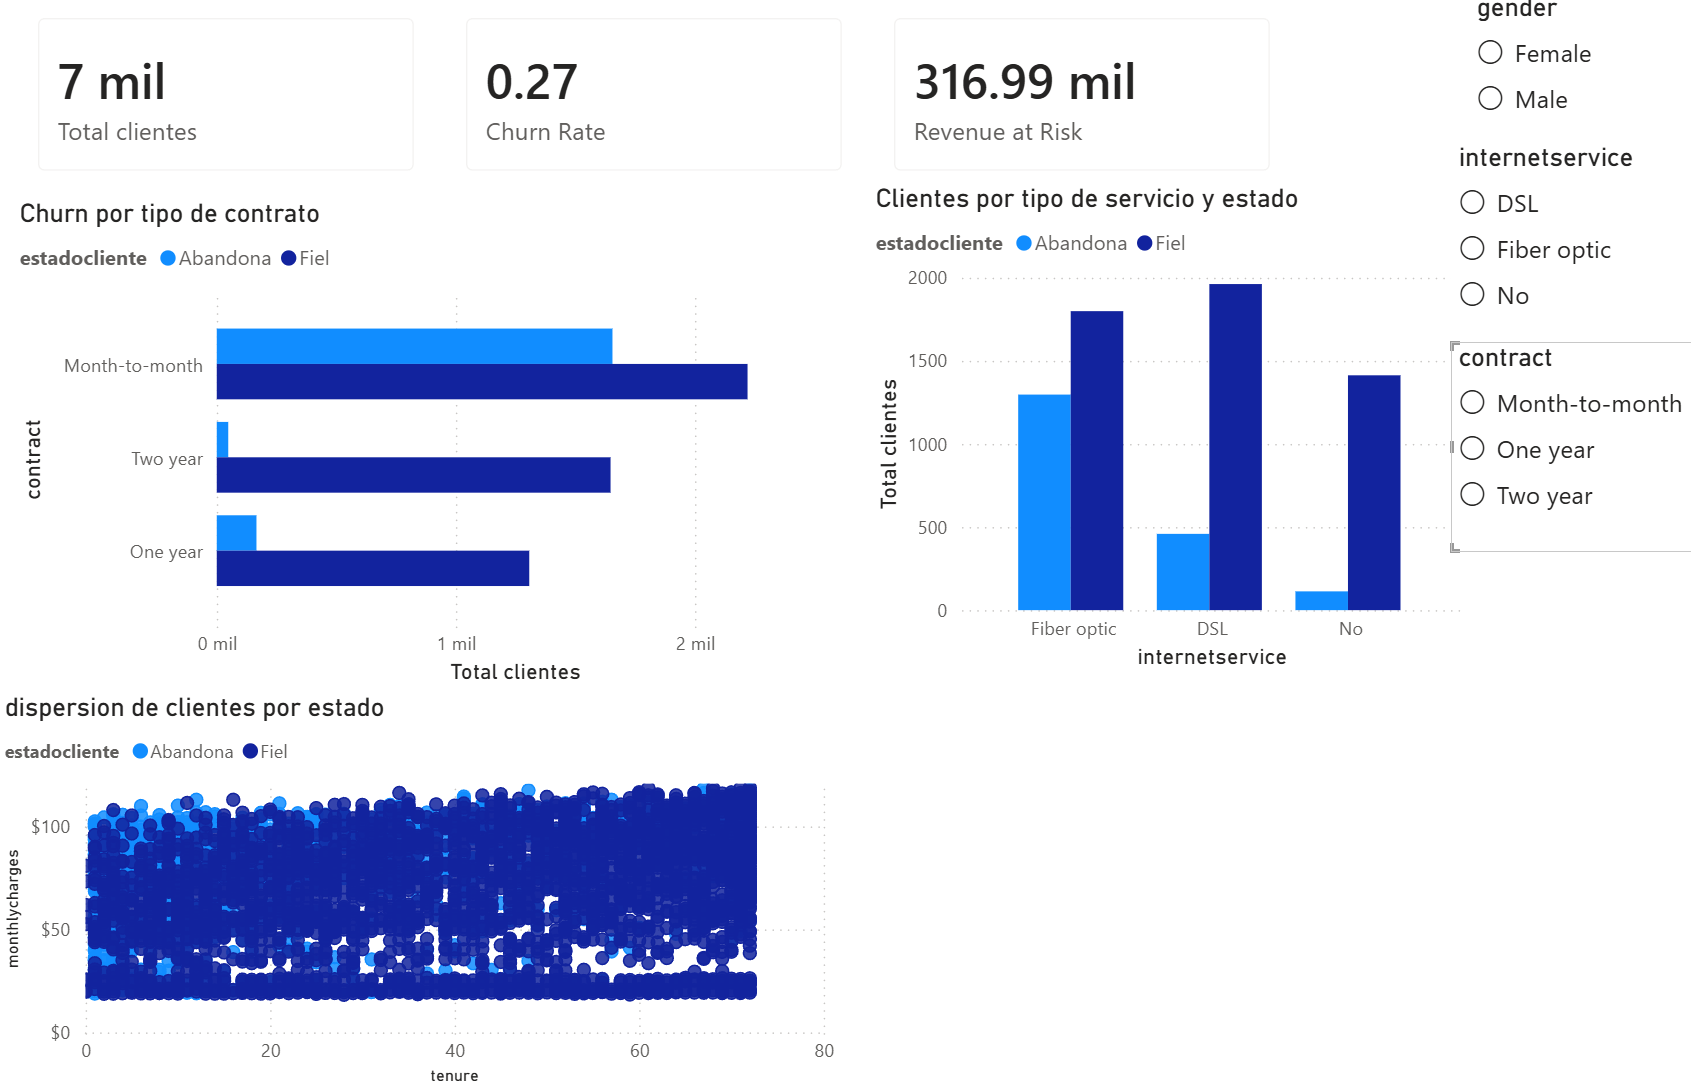

What the dashboard file says about the page in this screenshot:
{"tool":"powerbi","page":{"name":"Página 1","canvas":[1280,720],"ordinal":0},"visuals":[{"type":"cardVisual","fields":{"Data":["public v_reporte_churn_bi.Total clientes"]},"box":[9.8,0,280.1,134.8],"z":0},{"type":"cardVisual","fields":{"Data":["public v_reporte_churn_bi.Churn Rate"]},"box":[289.9,0,280.1,134.8],"z":1000},{"type":"cardVisual","fields":{"Data":["public v_reporte_churn_bi.Revenue at Risk"]},"box":[570,0,280.1,134.8],"z":2000},{"type":"clusteredBarChart","title":"Churn por tipo de contrato","fields":{"Category":["public v_reporte_churn_bi.contract"],"Y":["public v_reporte_churn_bi.Total clientes"],"Series":["public v_reporte_churn_bi.estadocliente"]},"box":[9.8,134.8,543.1,323.3],"z":3000},{"type":"clusteredColumnChart","title":"Clientes por tipo de servicio y estado","fields":{"Y":["public v_reporte_churn_bi.Total clientes"],"Series":["public v_reporte_churn_bi.estadocliente"],"Category":["public v_reporte_churn_bi.internetservice"]},"box":[570,125,393.6,322.9],"z":4000},{"type":"scatterChart","title":"dispersion de clientes por estado","fields":{"X":["public v_reporte_churn_bi.tenure"],"Y":["public v_reporte_churn_bi.monthlycharges"],"Series":["public v_reporte_churn_bi.estadocliente"]},"box":[0,458.1,553,261.8],"z":5000},{"type":"listSlicer","fields":{"Values":["public v_reporte_churn_bi.gender"]},"box":[963.6,0,316.4,90.7],"z":6000},{"type":"listSlicer","fields":{"Values":["public v_reporte_churn_bi.internetservice"]},"box":[951.4,97.9,328.6,125.7],"z":7000},{"type":"listSlicer","fields":{"Values":["public v_reporte_churn_bi.contract"]},"box":[951.4,229.3,328.6,137.1],"z":8000}]}

Visuals, with their boxes on the page's 1280x720 design canvas (x1, y1, x2, y2). These are canvas units, not pixel positions in the 1691x1089 screenshot, which may show the page scaled, cropped or inside an application window:
cardVisual - public v_reporte_churn_bi.Total clientes: 10:0:290:135
cardVisual - public v_reporte_churn_bi.Churn Rate: 290:0:570:135
cardVisual - public v_reporte_churn_bi.Revenue at Risk: 570:0:850:135
"Churn por tipo de contrato" clusteredBarChart: 10:135:553:458
"Clientes por tipo de servicio y estado" clusteredColumnChart: 570:125:964:448
"dispersion de clientes por estado" scatterChart: 0:458:553:720
listSlicer - public v_reporte_churn_bi.gender: 964:0:1280:91
listSlicer - public v_reporte_churn_bi.internetservice: 951:98:1280:224
listSlicer - public v_reporte_churn_bi.contract: 951:229:1280:366
